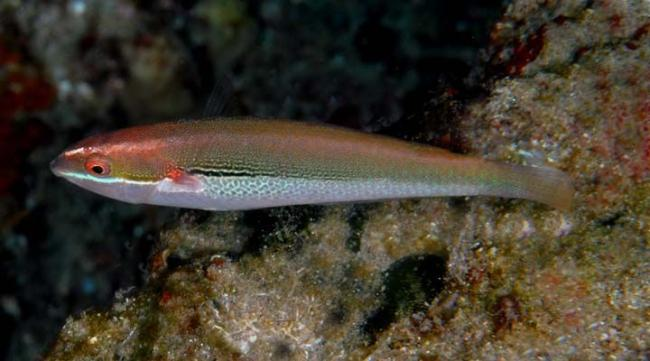fish: (49, 116, 573, 213)
